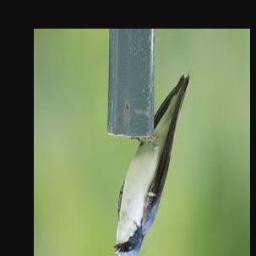Swallow: (112, 74, 190, 256)
